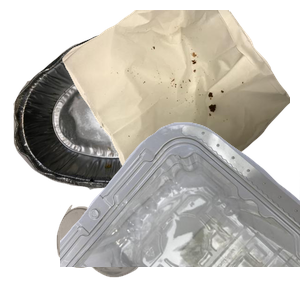glass: (54, 202, 193, 300)
metal: (11, 20, 251, 200)
plastic: (60, 120, 300, 300)
trash: (60, 10, 300, 190)
